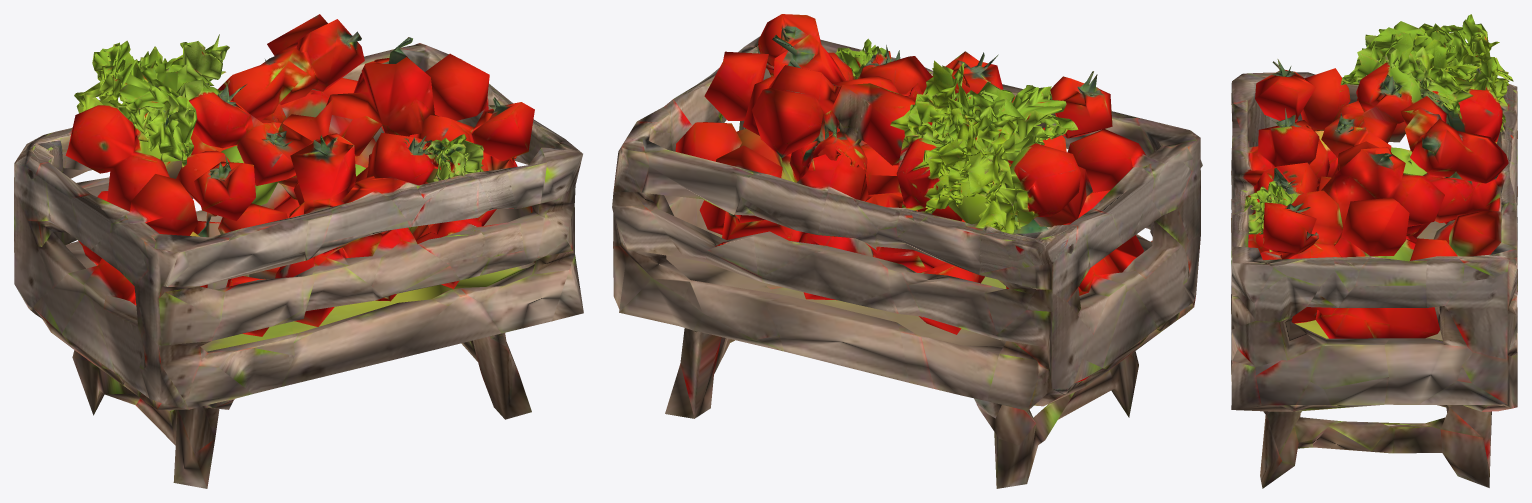
File: produce-crate-lite.glb
The picture shows the model from 3 angles, left to right: view 1: azimuth 30°, elevation 25°; view 2: azimuth 150°, elevation 25°; view 3: azimuth 270°, elevation 25°; orthographic projection. The views are drawn at different scales.
Size of the model in its own units: 1.9 by 1.59 by 1.2.
Materials: 1 (1 with a texture image).
